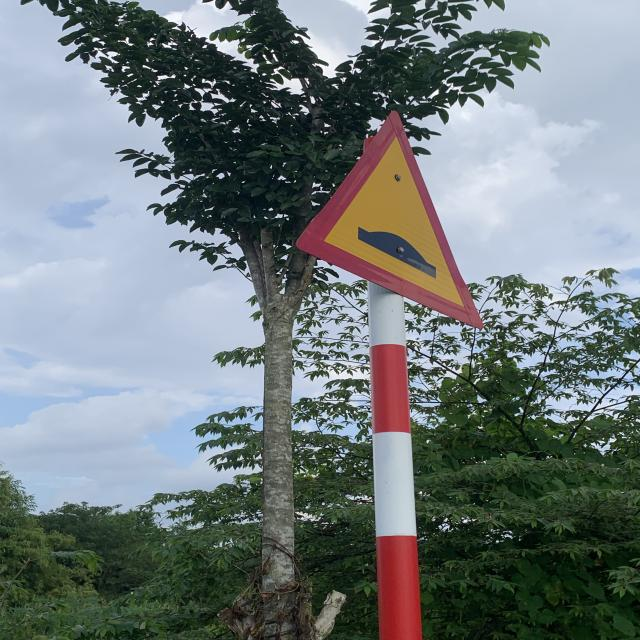Duong_Cong_Ben_Phai: (294, 107, 489, 330)
